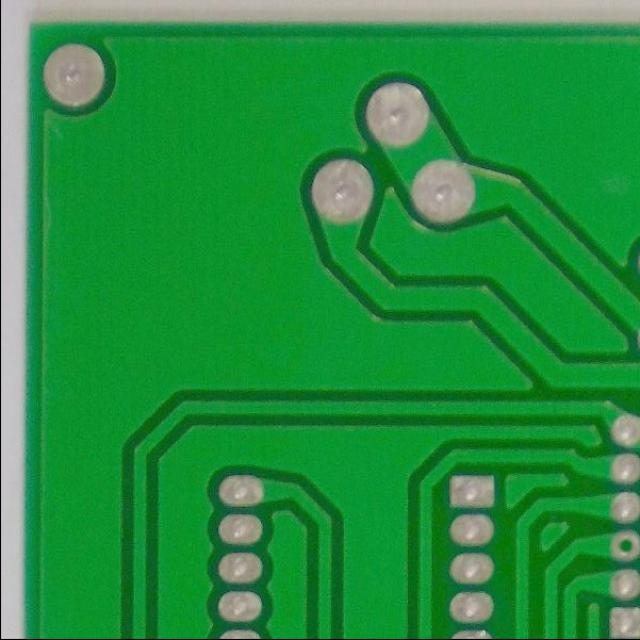missing_hole: (605, 527, 638, 567)
